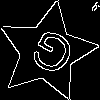G: (21, 27, 79, 86)
